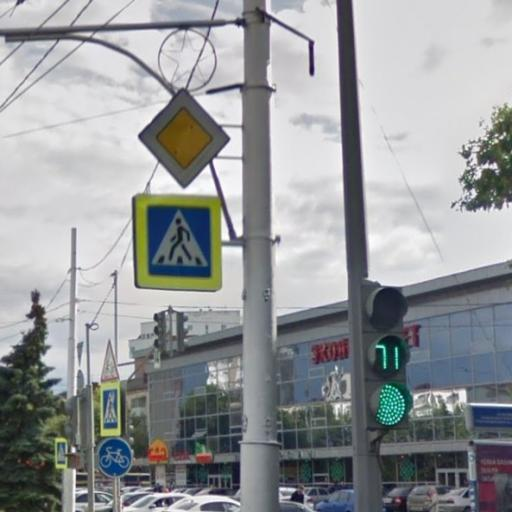traffic_sign: (139, 88, 234, 189), (134, 192, 224, 295), (97, 437, 135, 480), (100, 382, 123, 438), (56, 438, 70, 471)
